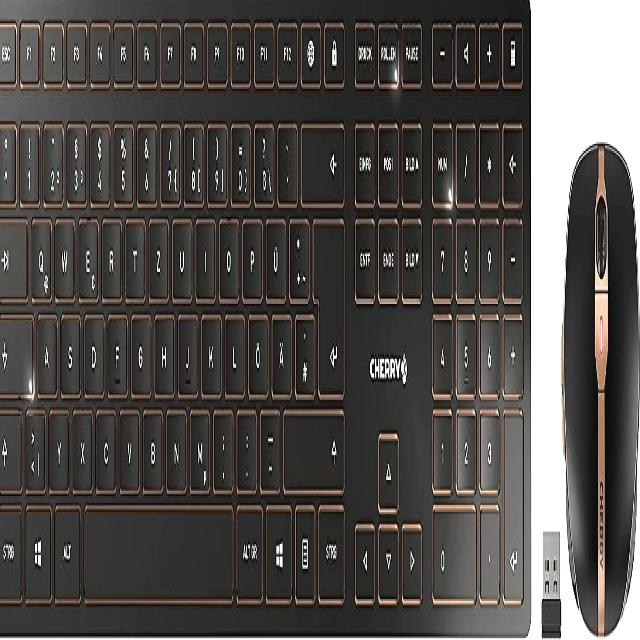0: (230, 121, 251, 208)
1: (19, 116, 39, 200)
2: (42, 114, 62, 200)
3: (66, 119, 88, 206)
4: (89, 116, 109, 198)
5: (112, 114, 134, 200)
6: (136, 116, 158, 200)
7: (159, 115, 181, 201)
8: (183, 119, 205, 206)
9: (206, 115, 227, 201)
a: (36, 304, 56, 391)
accent: (277, 123, 297, 205)
ae: (272, 313, 292, 400)
alt-left: (54, 501, 82, 603)
altgr-right: (235, 497, 263, 603)
b: (141, 400, 162, 486)
c: (95, 400, 115, 486)
caret: (0, 113, 14, 197)
comma: (213, 409, 233, 496)
d: (83, 304, 103, 390)
del: (300, 116, 344, 200)
e: (78, 215, 98, 302)
enter: (311, 207, 343, 397)
f: (106, 306, 126, 390)
g: (130, 304, 150, 390)
h: (153, 304, 173, 390)
hash: (294, 311, 315, 398)
i: (195, 210, 215, 292)
j: (177, 306, 196, 390)
k: (201, 316, 221, 400)
keyboard: (0, 1, 532, 635)
l: (223, 306, 243, 390)
less: (23, 400, 44, 486)
m: (190, 407, 210, 494)
minus: (259, 407, 280, 494)
n: (166, 407, 187, 494)
o: (218, 208, 238, 294)
oe: (247, 306, 267, 392)
p: (242, 210, 262, 296)
plus: (288, 208, 308, 295)
point: (236, 411, 256, 495)
q: (29, 208, 50, 297)
r: (101, 217, 121, 303)
s: (59, 306, 79, 392)
shift-left: (0, 410, 20, 492)
shift-lock: (0, 311, 34, 395)
shift-right: (282, 402, 344, 486)
space: (82, 502, 232, 607)
ss: (253, 119, 275, 206)
strg-left: (0, 502, 22, 605)
strg-right: (316, 496, 345, 604)
t: (124, 215, 145, 301)
tab: (0, 214, 28, 301)
u: (172, 214, 193, 303)
ue: (265, 210, 285, 296)
v: (118, 400, 138, 486)
w: (55, 217, 75, 304)
x: (72, 400, 92, 487)
y: (48, 400, 68, 487)
z: (148, 217, 168, 299)
